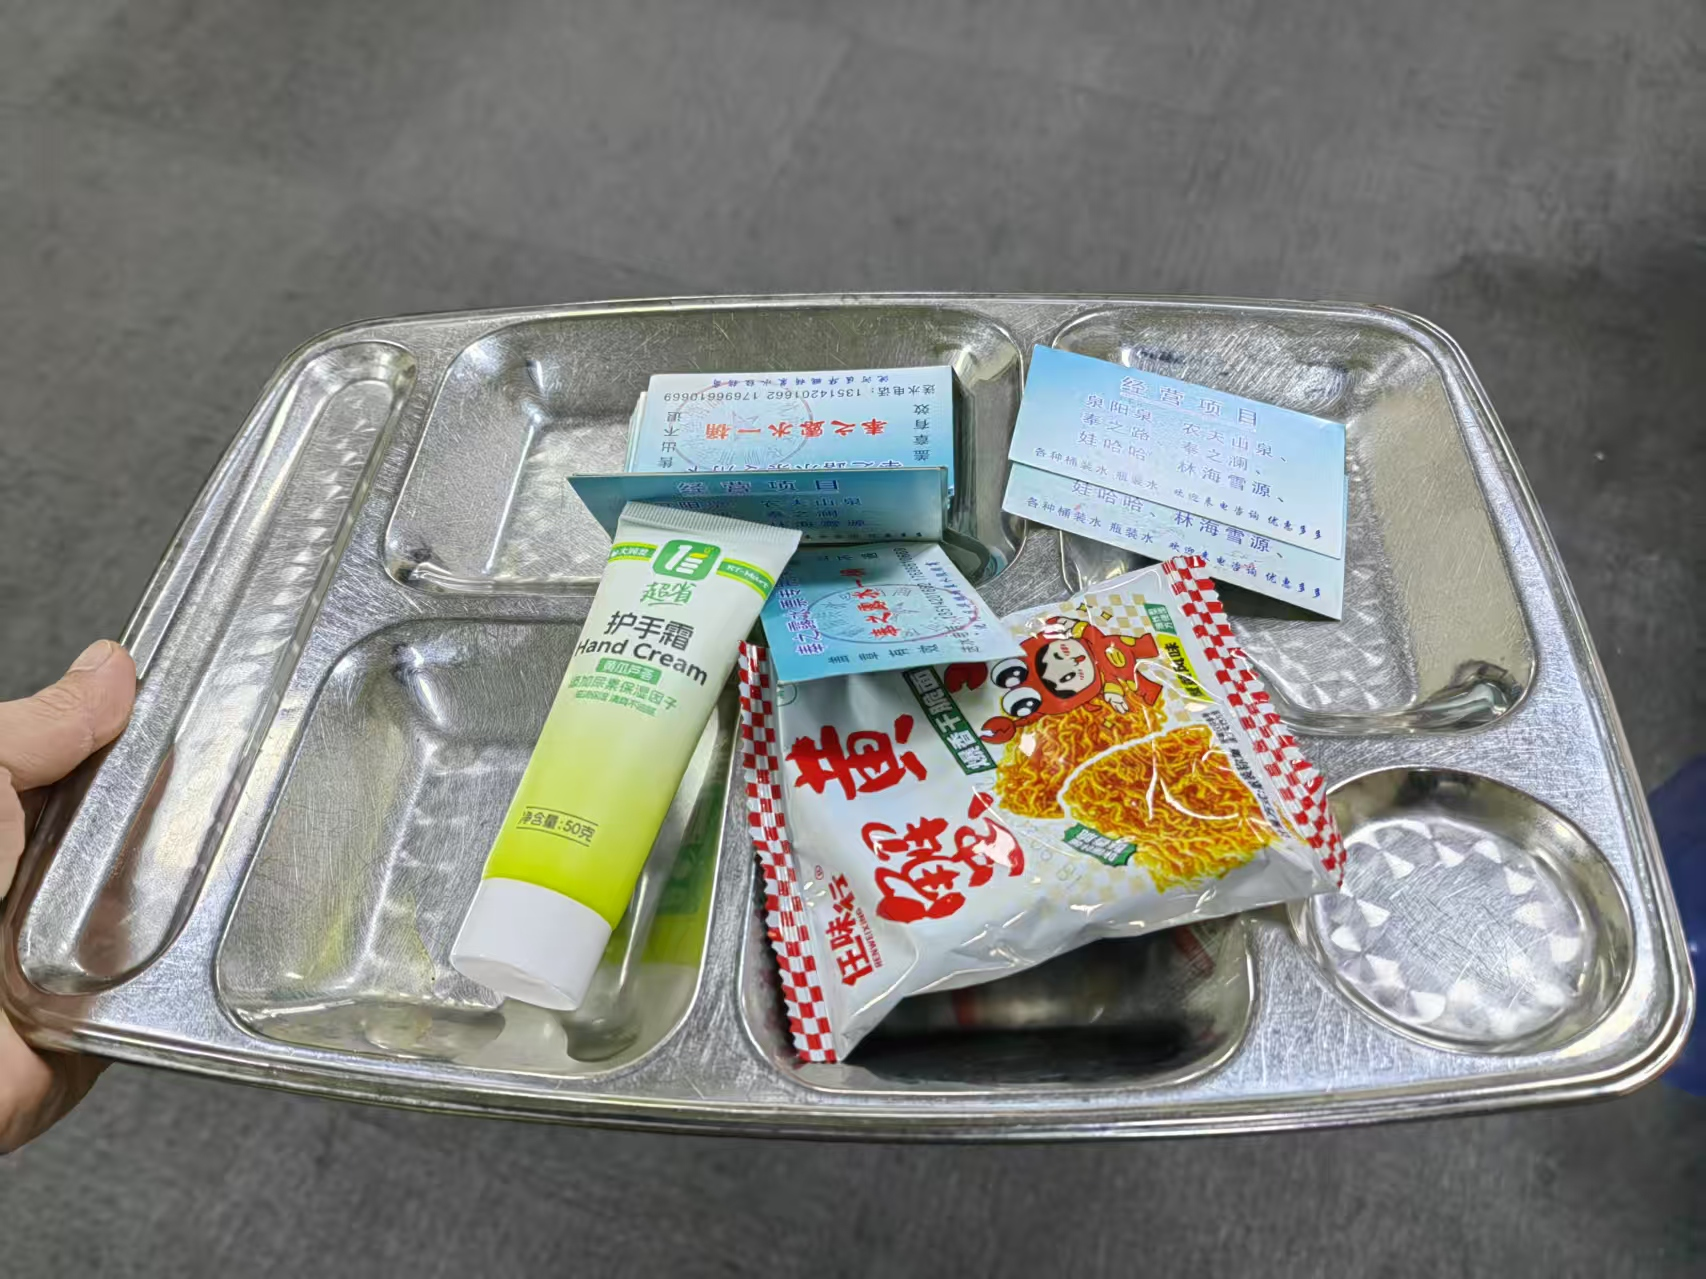plate: (3, 288, 1700, 1146)
severe: (450, 346, 1355, 1068)
